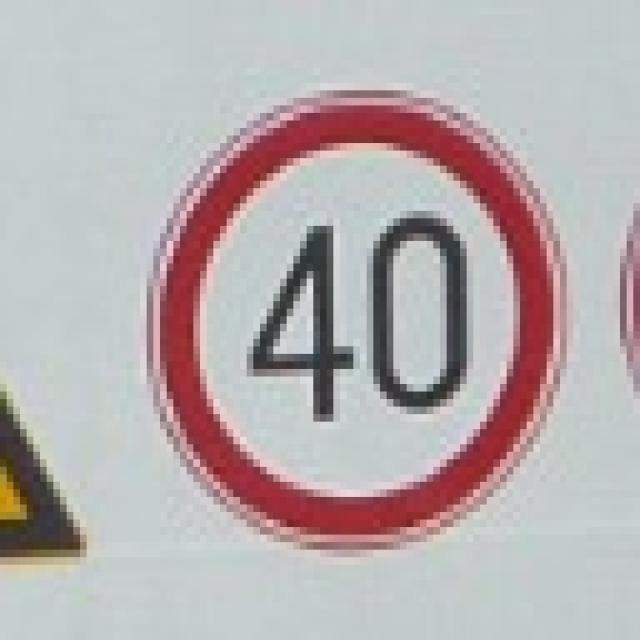Speed Limit -40-: (244, 211, 474, 432)
